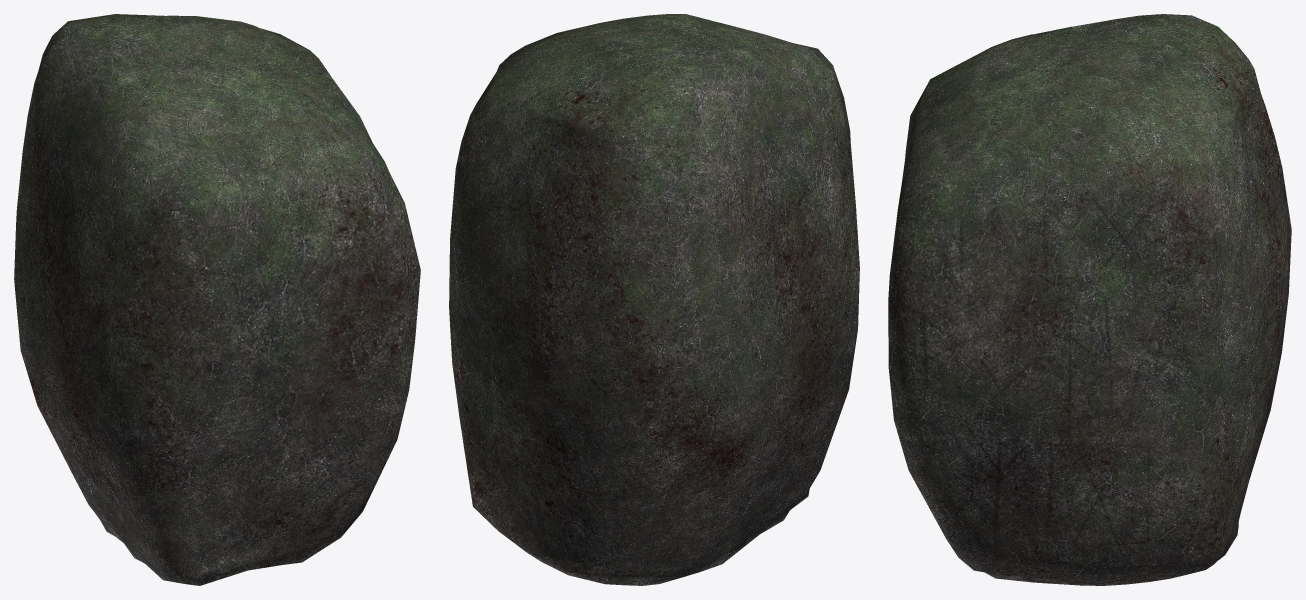
File: viking_rock.glb
3 views of the same model, side by side, from view 1: azimuth 30°, elevation 25°; view 2: azimuth 150°, elevation 25°; view 3: azimuth 270°, elevation 25° (orthographic). The views are drawn at different scales.
Parts seen in each view (by area): view 1: Cube_contours; view 2: Cube_contours; view 3: Cube_contours.
Boxes of the visible parts, box(x1,y1,x2,y2) form: Cube_contours: box(14, 14, 420, 585); Cube_contours: box(449, 14, 859, 585); Cube_contours: box(888, 14, 1291, 585).
Size of the model in its own units: 1.21 by 2 by 1.41.
1 material, 1 textured.
